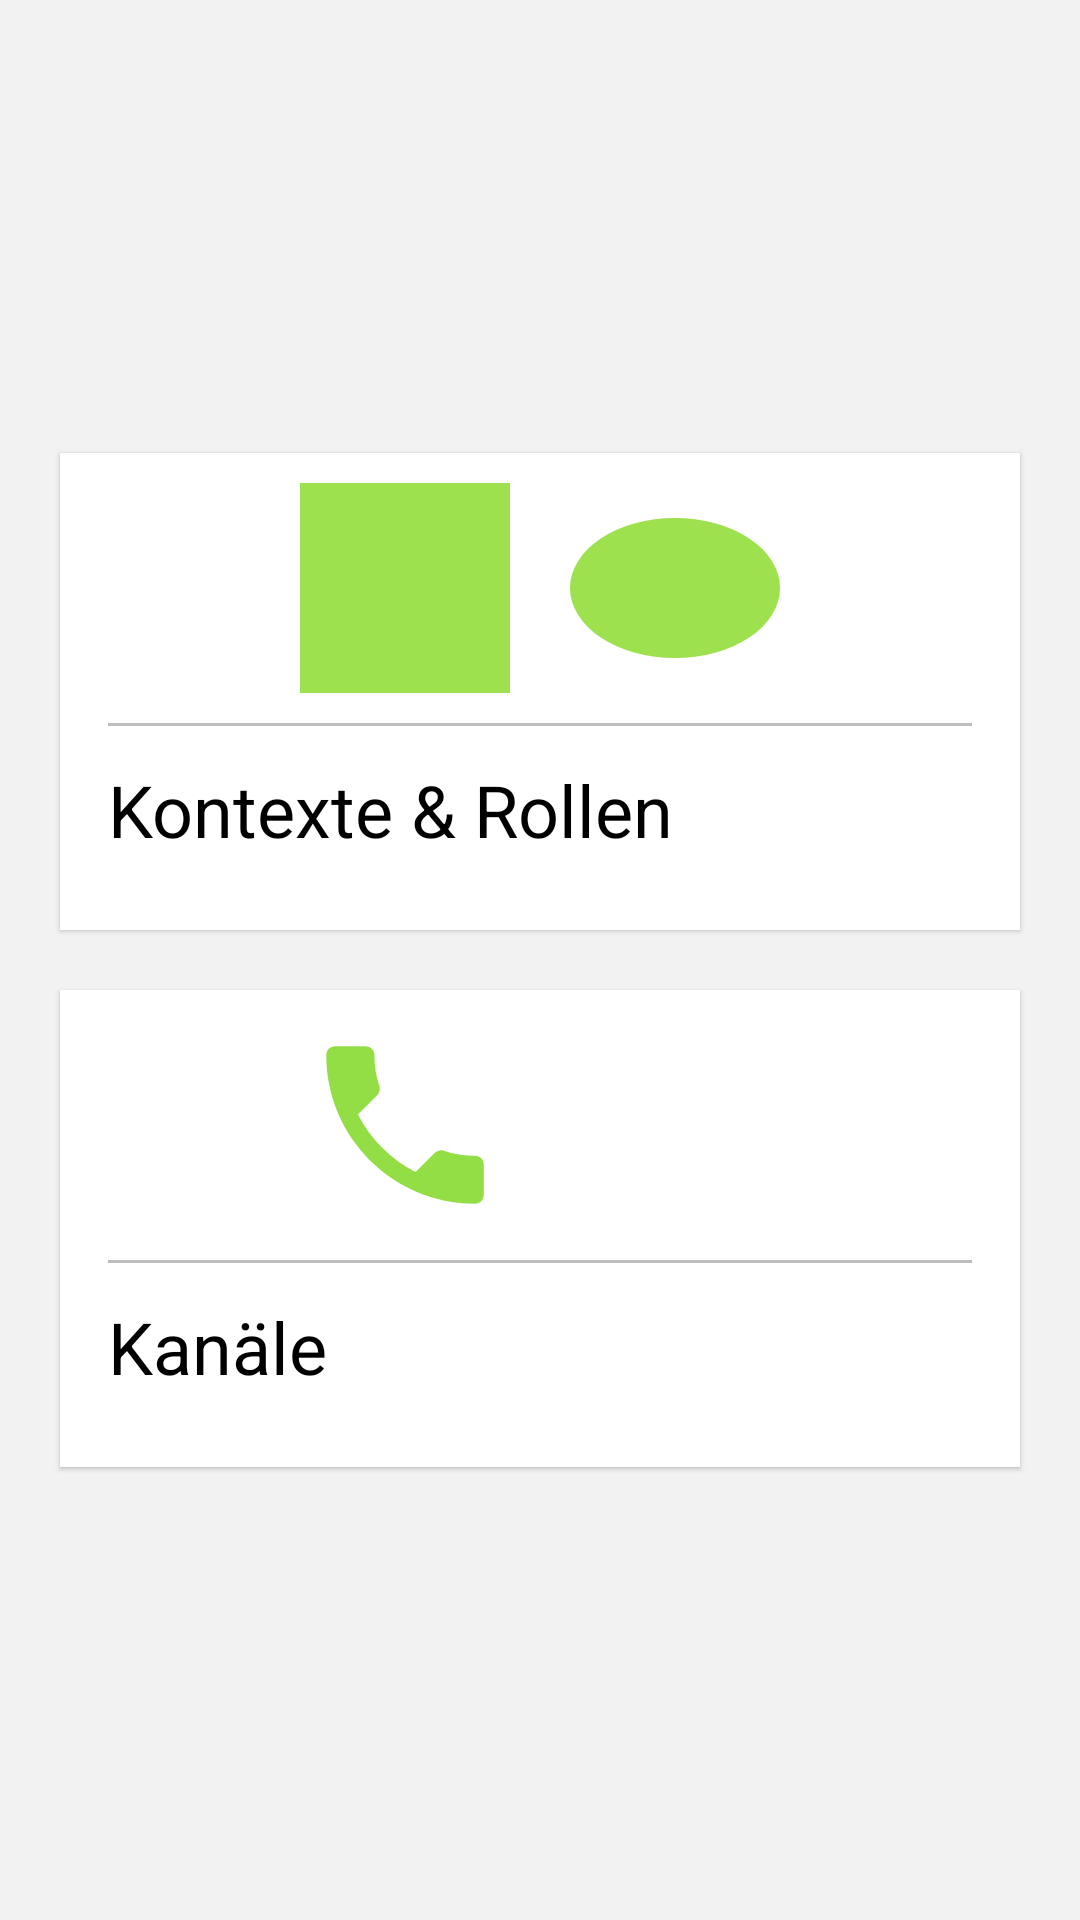

Icon click points for this 1080 × 1920 phone screenshot, format (x=x, y=y):
phone: (x=405, y=1125)
